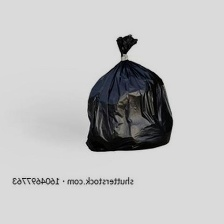plastic_bag: (79, 30, 179, 154)
